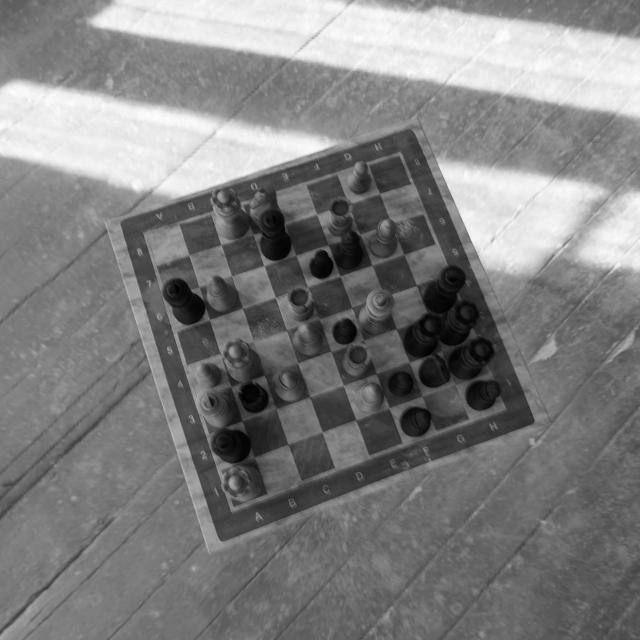chessboard: (146, 153, 505, 512)
